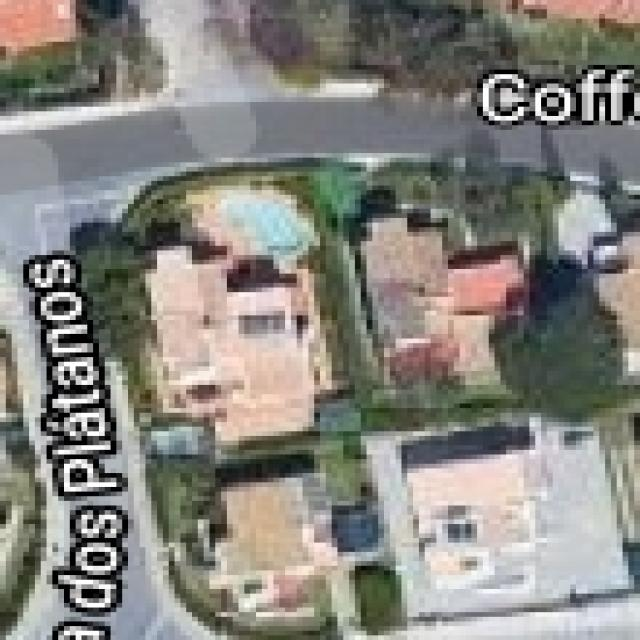pool: (215, 190, 321, 260)
